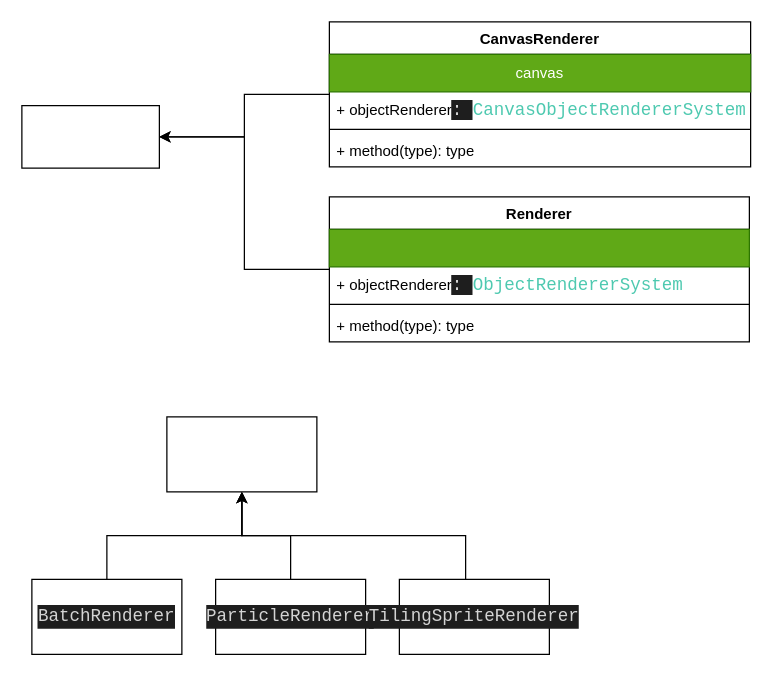
Some shapes in this 773 by 676 pixel diagram are drawn without their labels. Here are the shapes that lost their labels. From the top down, the centre of each, then its label:
point (90, 136): «interface» IRenderer
point (538, 247): webgl
point (241, 454): ObjectRenderer
